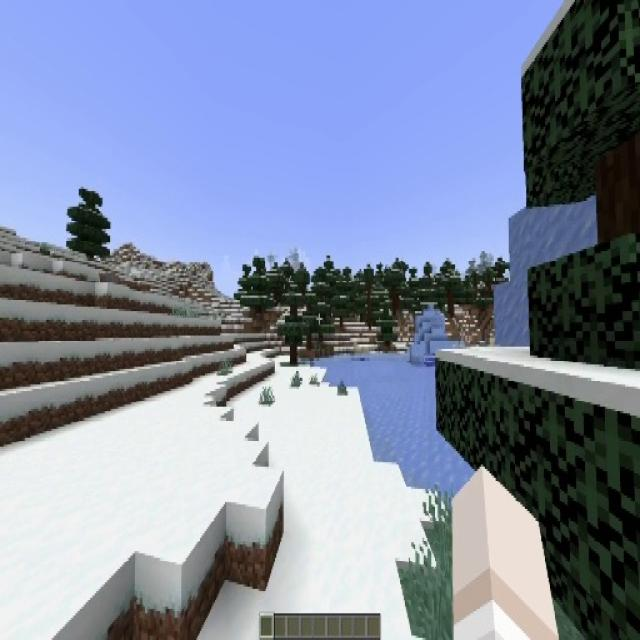spruce: (66, 186, 111, 266), (279, 287, 308, 365), (306, 269, 331, 344), (242, 258, 274, 314), (376, 300, 398, 346), (333, 276, 349, 325)
